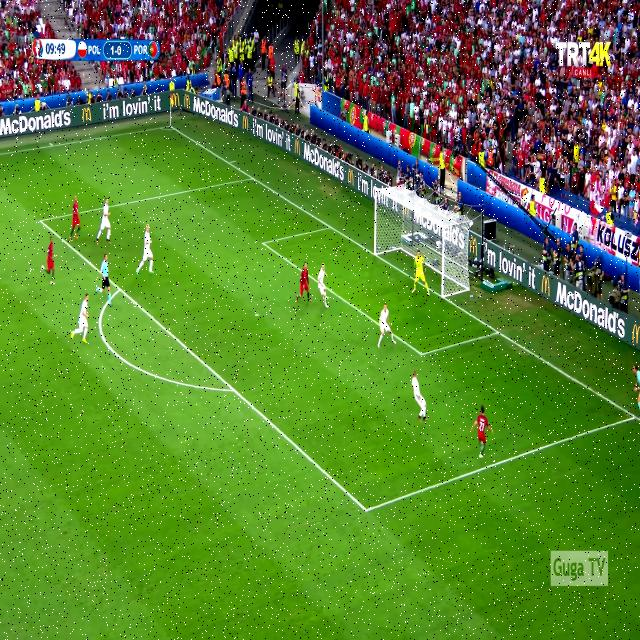GoalKeeper: (411, 252, 431, 306)
TEAM 1: (472, 409, 493, 460), (43, 234, 58, 284), (96, 199, 111, 247), (299, 264, 311, 301)
TEAM 2: (74, 293, 94, 345), (136, 224, 154, 278), (411, 372, 428, 424), (375, 303, 393, 347), (70, 197, 83, 243), (316, 265, 327, 304)
